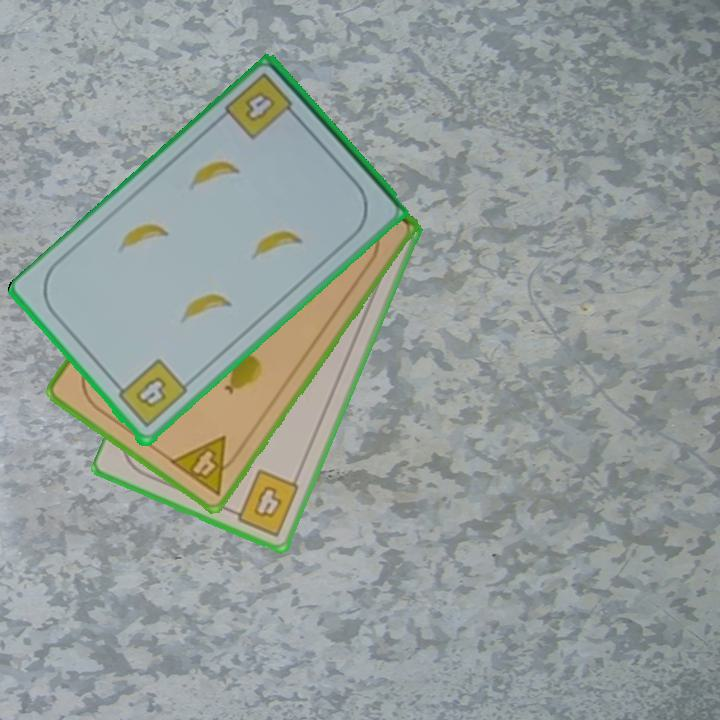4b: (221, 69, 304, 143), (110, 356, 190, 432), (225, 465, 303, 540)
4p: (166, 432, 246, 498)
